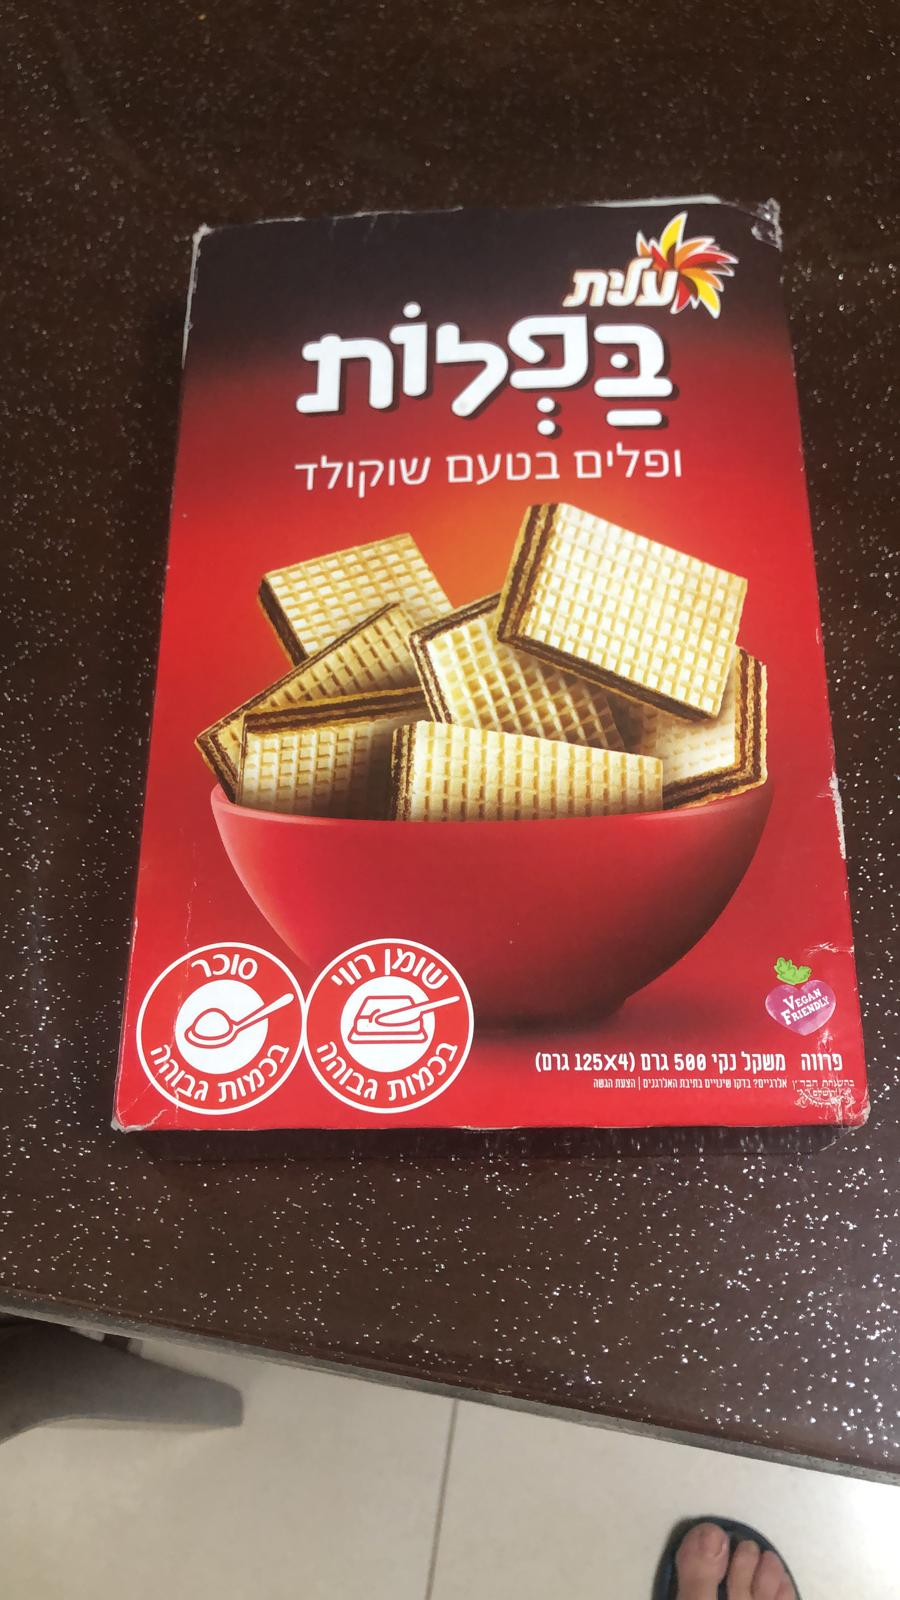fat: (305, 936, 476, 1116)
sugar: (134, 940, 307, 1116)
